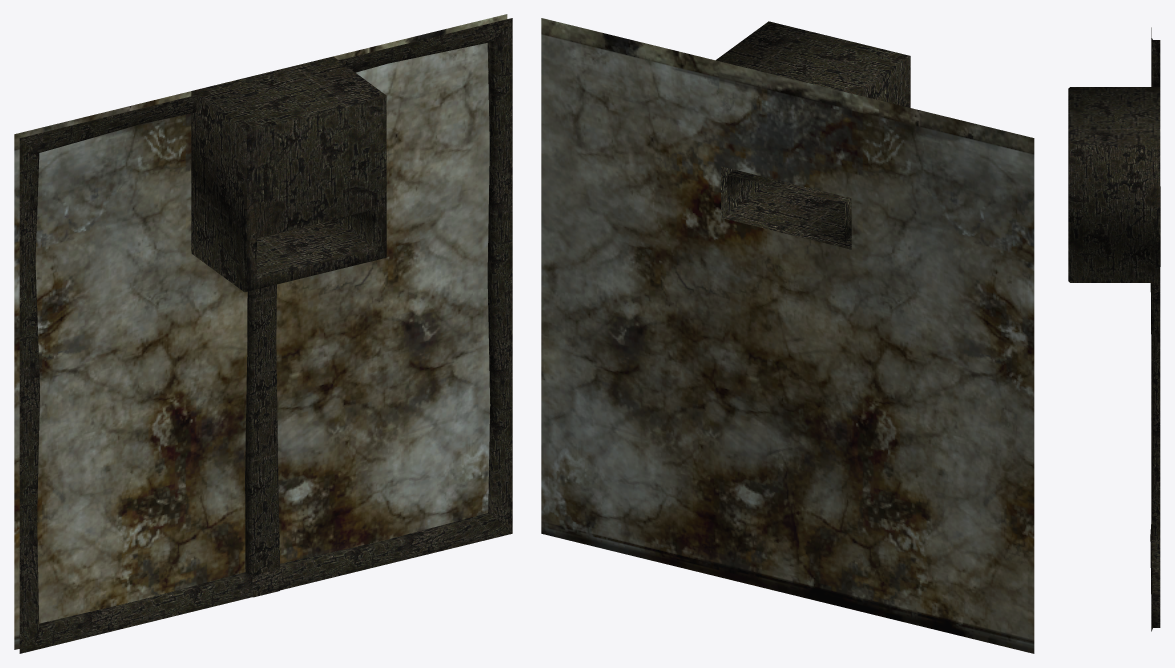
File: cellar_ceiling_03.DAE
3 renders of one model, left to right at view 1: azimuth 30°, elevation 25°; view 2: azimuth 150°, elevation 25°; view 3: azimuth 270°, elevation 25°, orthographic. The views are drawn at different scales.
Visible parts, largest first — view 1: Box027, Box026; view 2: Box027, Box026; view 3: Box026.
Part boxes in pixels (x1,y1,x2,y2): Box027: (14,14,507,649); Box026: (19,18,512,653); Box027: (541,18,1034,653); Box026: (716,21,910,249); Box026: (1068,27,1160,631).
Size of the model in its own units: 4 by 4 by 0.7678.
